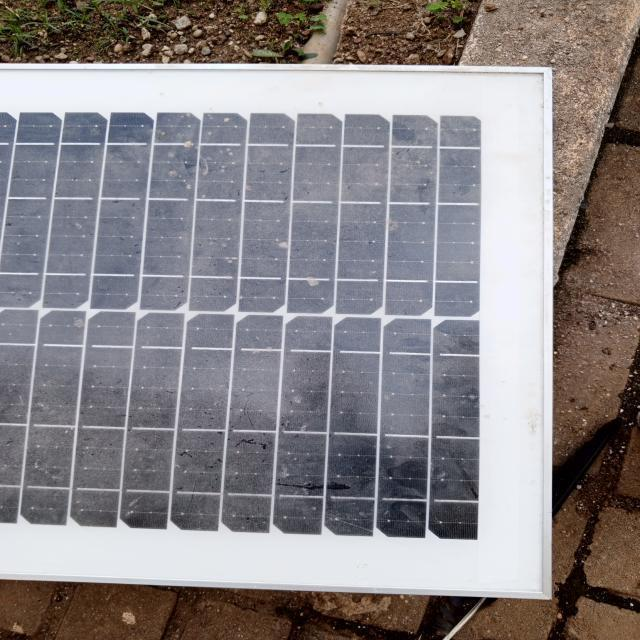Anomaly Solar Panel: (0, 77, 535, 568)
Surface Contaminant: (6, 132, 486, 539)
